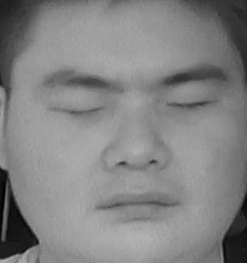blink: (50, 92, 103, 128), (166, 87, 217, 122)
mouth: (95, 182, 181, 228)
